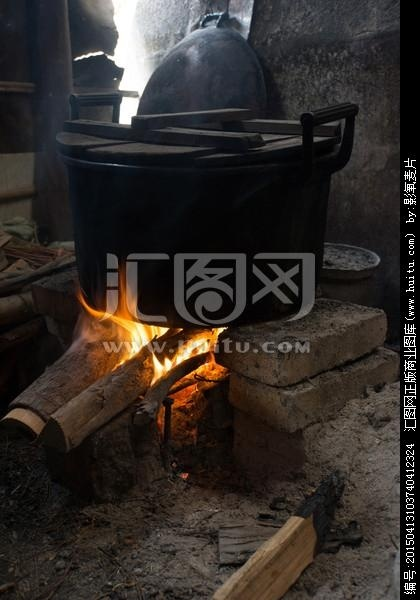fire: (74, 280, 223, 385)
